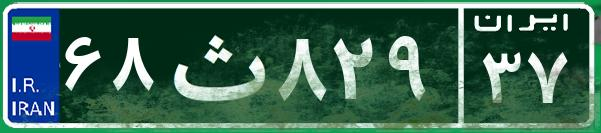2: (330, 28, 385, 110)
3: (475, 38, 525, 113)
6: (57, 26, 110, 107)
7: (525, 38, 570, 115)
8: (273, 28, 330, 110), (110, 28, 158, 105)
9: (385, 28, 445, 110)
ث: (158, 15, 273, 115)
